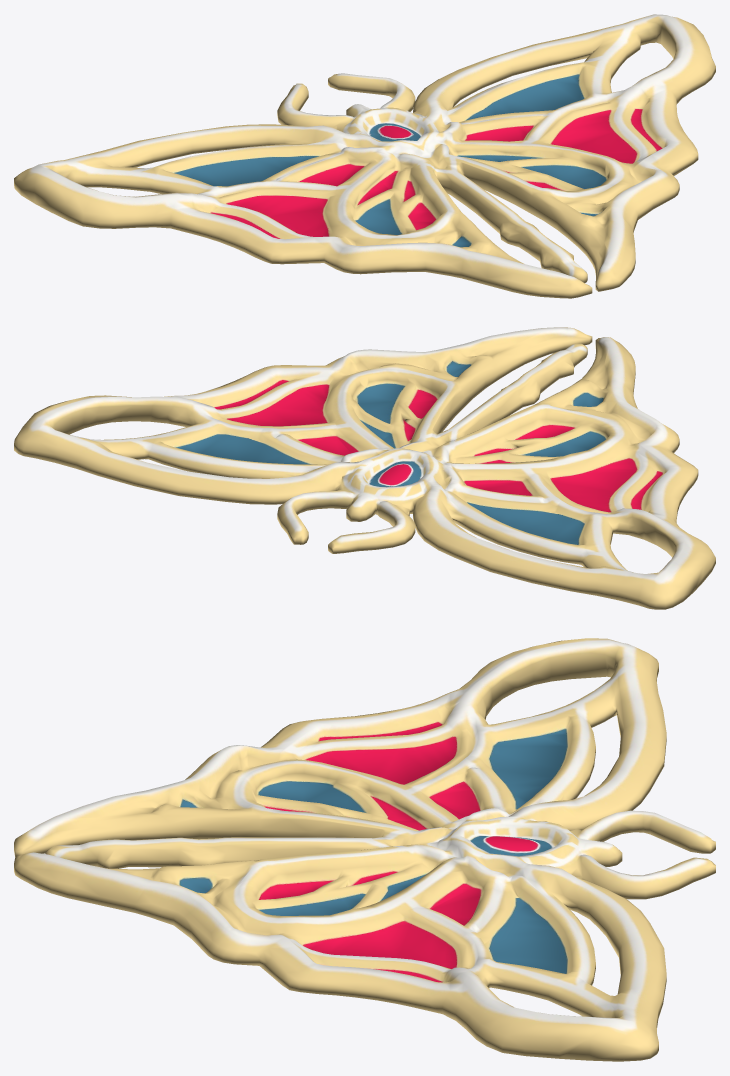
3 renders of one model, top to bottom at view 1: azimuth 30°, elevation 25°; view 2: azimuth 150°, elevation 25°; view 3: azimuth 270°, elevation 25°, orthographic. The views are drawn at different scales.
Visible parts, largest first — view 1: Object_2; view 2: Object_2; view 3: Object_2.
Part boxes in pixels (x1,y1,x2,y2): Object_2: (14,14,715,298); Object_2: (14,327,715,609); Object_2: (14,638,715,1061).
Bounding box in the file's own units: 20.64 × 0.7432 × 15.25.
1 material, 1 textured.
